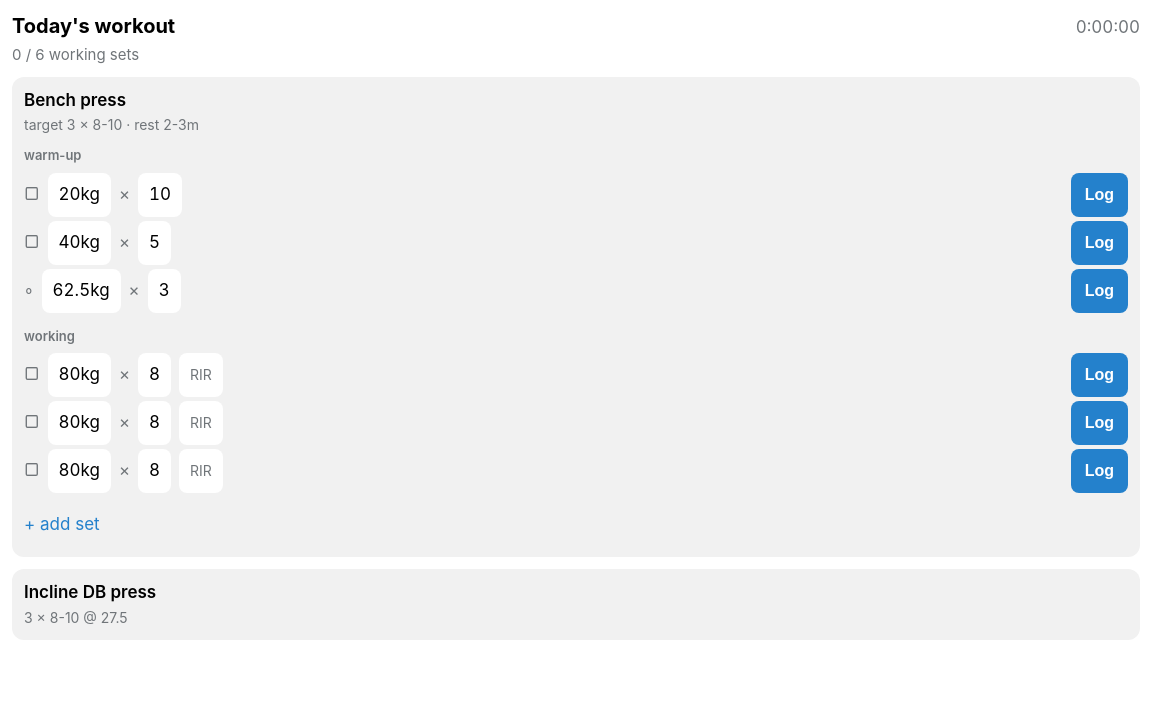
it: the session screen › the rest timer is dismissable and never blocks logging
expect the text "Bench press" is shown: met, box [24,89,126,113]
Step 1. Click the 4th button "Log" → (1099, 375), box [1071,353,1128,397]
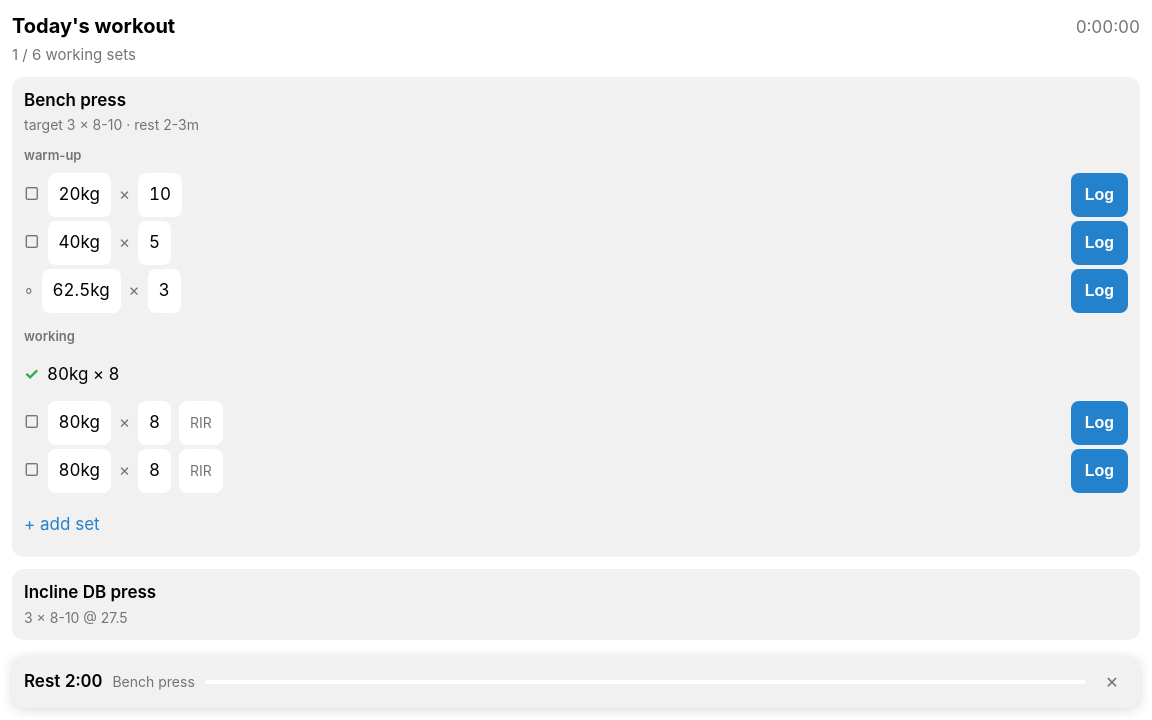
expect the text "Rest 2:00" is shown: met, box [24,670,102,694]
Step 2. Click the button named "Dismiss rest timer" → (1112, 682), box [1096,666,1128,698]
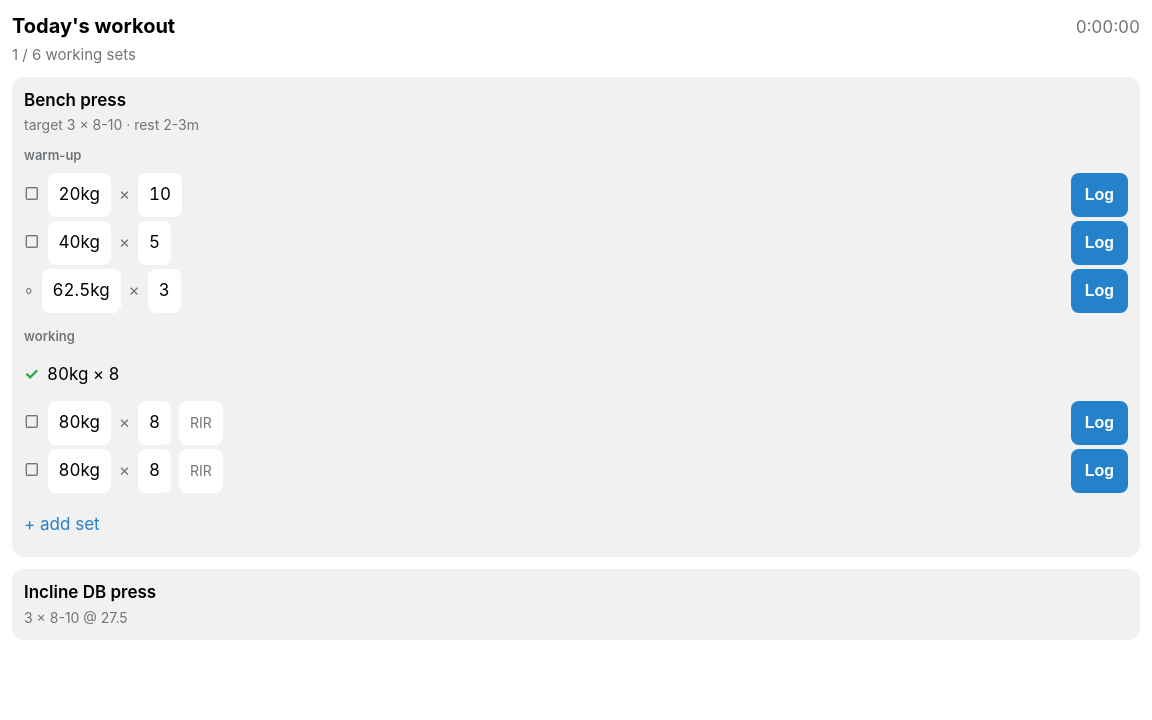
expect the text "Rest 2:00" is gone: met
